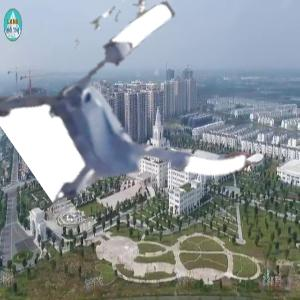drone: (24, 16, 244, 236)
